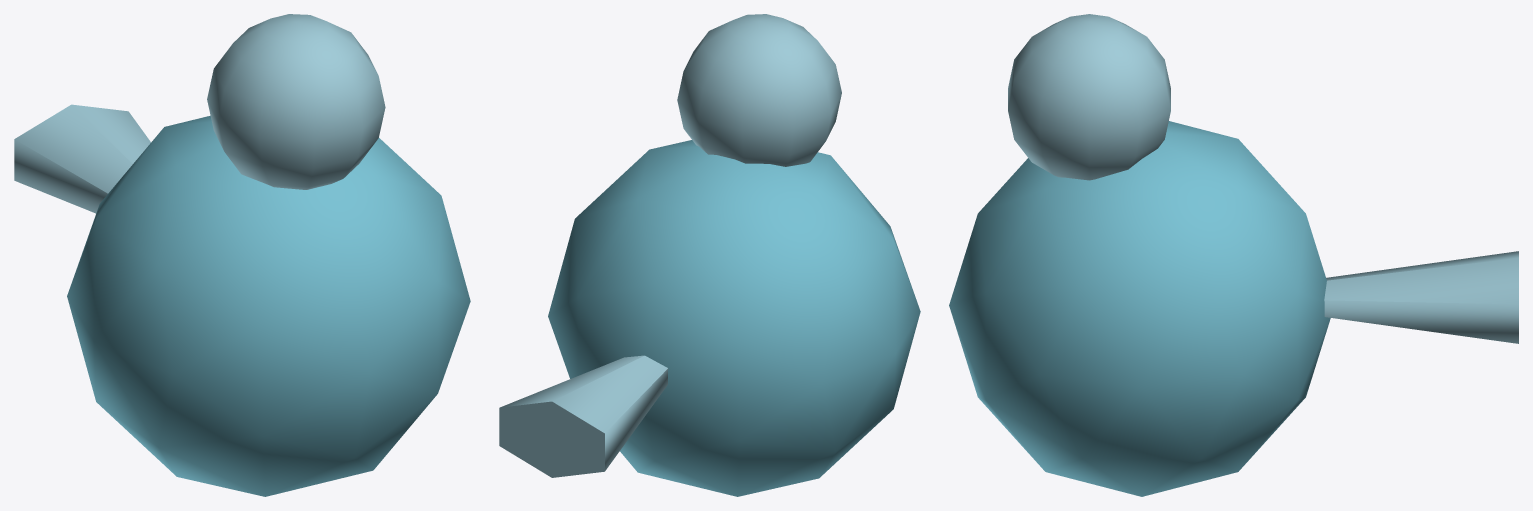
Rendered from wind_monster_3.glb.
The picture shows the model from 3 angles, left to right: view 1: azimuth 30°, elevation 25°; view 2: azimuth 150°, elevation 25°; view 3: azimuth 270°, elevation 25°; orthographic projection. The views are drawn at different scales.
Parts seen in each view (by area): view 1: CoreBody, Head, MOTIF_wind_tail; view 2: CoreBody, Head, MOTIF_wind_tail; view 3: CoreBody, Head, MOTIF_wind_tail.
Part boxes in pixels (<box>): CoreBody: <box>67,115,470,496</box>; Head: <box>207,14,385,189</box>; MOTIF_wind_tail: <box>14,104,150,213</box>; CoreBody: <box>548,140,920,496</box>; Head: <box>677,14,841,166</box>; MOTIF_wind_tail: <box>499,355,668,477</box>; CoreBody: <box>949,121,1330,496</box>; Head: <box>1008,14,1170,180</box>; MOTIF_wind_tail: <box>1324,251,1518,343</box>.
Size of the model in its own units: 1.32 by 1.74 by 1.96.
